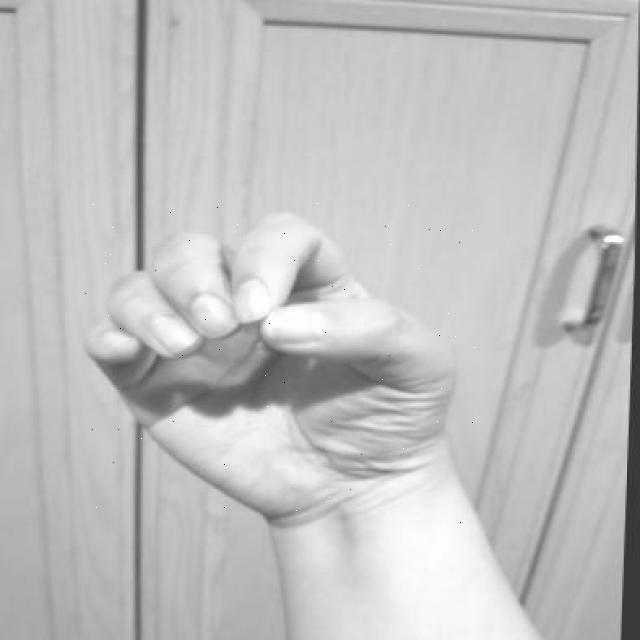O: (74, 203, 478, 525)
